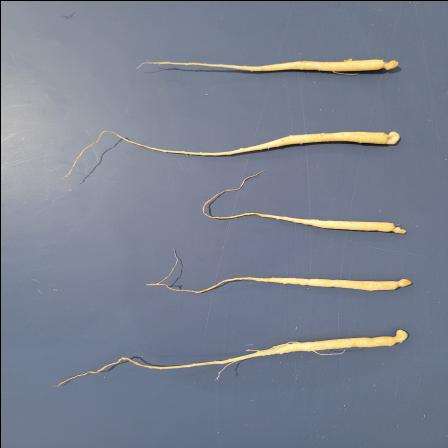Ginseng: (51, 326, 412, 390), (57, 124, 408, 178), (201, 168, 408, 236), (146, 246, 418, 293), (134, 56, 401, 76)
head: (384, 328, 409, 344), (378, 130, 401, 146), (376, 57, 400, 71), (387, 277, 414, 289), (388, 220, 406, 234)
